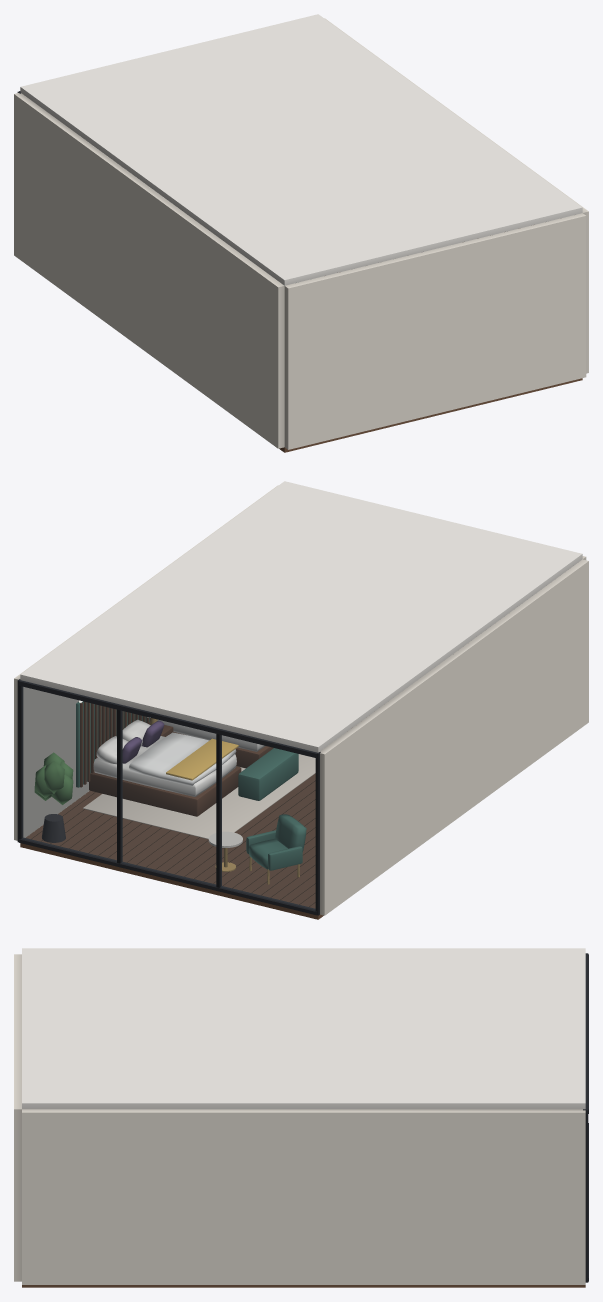
Rendered from os-family.glb.
The picture shows the model from 3 angles, top to bottom: view 1: azimuth 30°, elevation 25°; view 2: azimuth 150°, elevation 25°; view 3: azimuth 270°, elevation 25°; orthographic projection. The views are drawn at different scales.
Visible parts, largest first — view 1: Room_wall, Room_ceiling, Room_floor; view 2: Room_ceiling, Room_wall, Room_glass, Room_floor, Room_frameDark, Room_wood, Room_rug, Room_fabric2, Room_linen, Room_duvet, Room_woodDark, Room_leaf (+4 smaller); view 3: Room_wall, Room_ceiling, Room_floor, Room_frameDark.
Boxes of the visible parts, x1,y1,x2,y2 form: Room_wall: [14, 18, 588, 449]; Room_ceiling: [20, 14, 582, 285]; Room_floor: [279, 378, 582, 452]; Room_ceiling: [20, 481, 582, 752]; Room_wall: [14, 485, 588, 915]; Room_glass: [22, 687, 314, 909]; Room_floor: [20, 773, 323, 919]; Room_frameDark: [17, 679, 320, 915]; Room_wood: [80, 701, 273, 816]; Room_rug: [83, 754, 315, 839]; Room_fabric2: [238, 748, 306, 870]; Room_linen: [93, 719, 265, 796]; Room_duvet: [129, 732, 236, 785]; Room_woodDark: [31, 732, 315, 906]; Room_leaf: [34, 752, 73, 804]; Room_wall: [14, 954, 585, 1284]; Room_ceiling: [22, 948, 585, 1109]; Room_floor: [22, 1285, 585, 1287]; Room_frameDark: [583, 953, 588, 1282].
Size of the model in its own units: 5.84 by 3.1 by 8.77.
